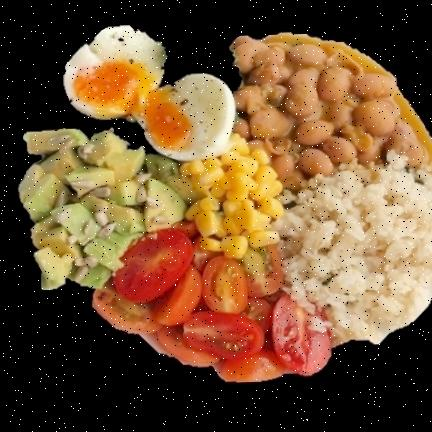beans: (231, 34, 431, 190)
corn: (180, 134, 284, 258)
egg: (64, 26, 236, 161)
green_vegetables: (19, 128, 187, 290)
rice: (273, 153, 431, 345)
tomato: (94, 222, 332, 380)
